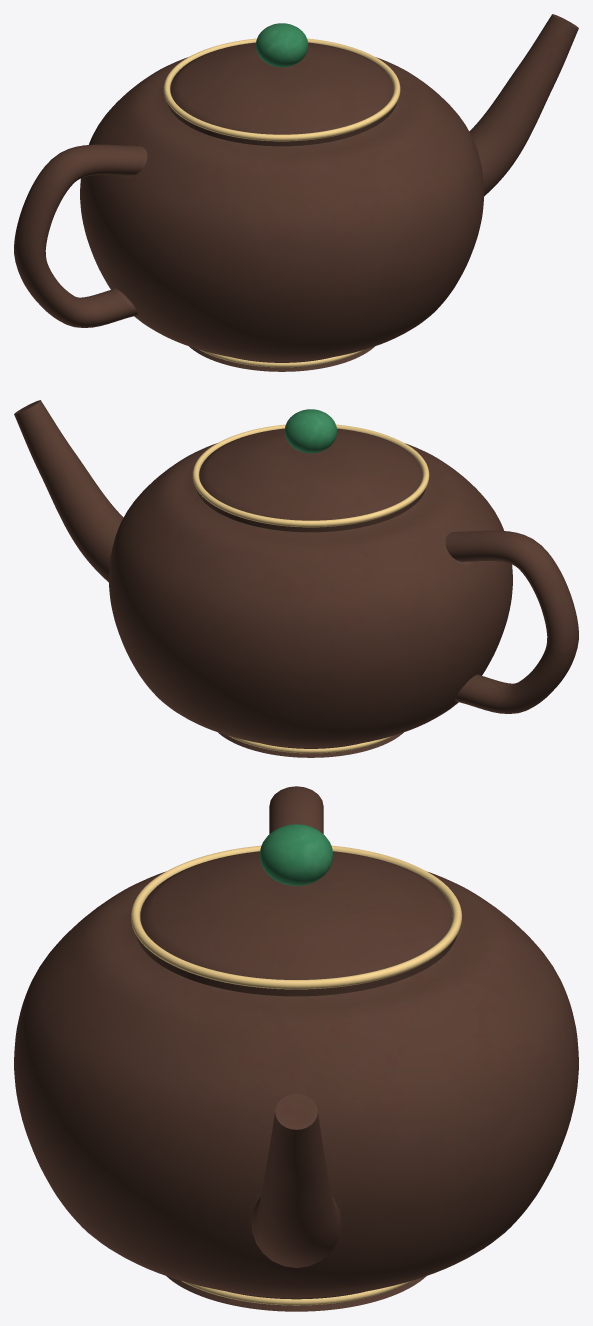
The model's file is zisha_teapot.glb.
The picture shows the model from 3 angles, top to bottom: view 1: azimuth 30°, elevation 25°; view 2: azimuth 150°, elevation 25°; view 3: azimuth 270°, elevation 25°; orthographic projection. The views are drawn at different scales.
Parts seen in each view (by area): view 1: zisha_teapot; view 2: zisha_teapot; view 3: zisha_teapot.
Part boxes in pixels (bbox=[...]): zisha_teapot: bbox=[14, 14, 578, 371]; zisha_teapot: bbox=[14, 400, 578, 757]; zisha_teapot: bbox=[14, 786, 578, 1311].
Bounding box in the file's own units: 0.2328 × 0.1209 × 0.1457.
1 material, 1 textured.
